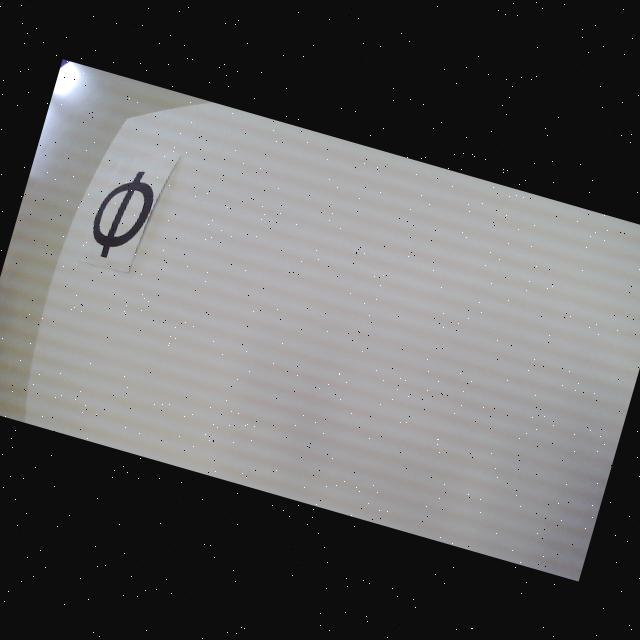PHI: (85, 161, 160, 266)
